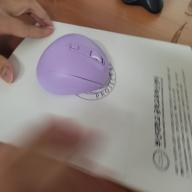mouse: (35, 32, 110, 97)
